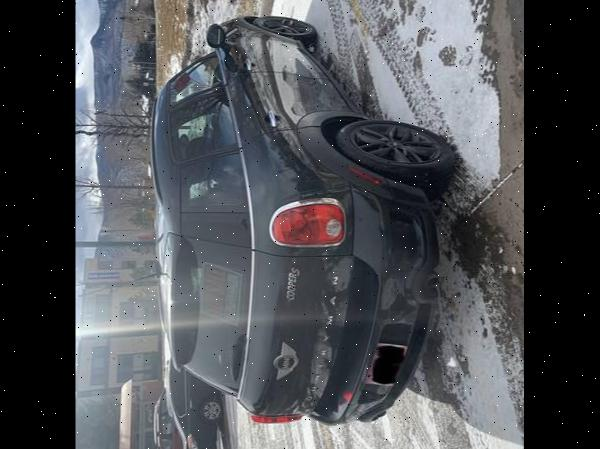Front_Right_Door: (222, 34, 340, 81)
Front_Right_Window: (172, 43, 231, 107)
Left_Taillight: (247, 413, 301, 423)
Rear_Bumper: (309, 167, 435, 426)
Rear_Fender: (180, 128, 355, 249)
Rear_Right_Door: (226, 74, 371, 149)
Rear_Right_Window: (170, 83, 243, 165)
Rear_Windshield: (171, 237, 255, 397)
Right_Taillight: (271, 197, 345, 246)
Roof: (153, 79, 255, 373)
Tailgate: (238, 240, 359, 415)
Wheel: (336, 120, 457, 199), (256, 13, 315, 37)
